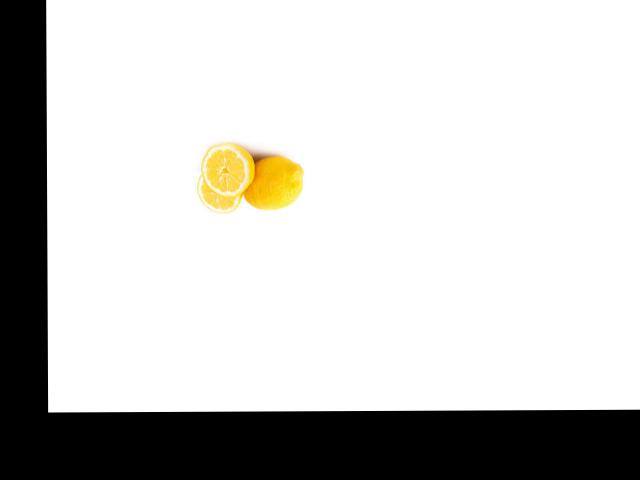lemon: (241, 154, 308, 212)
